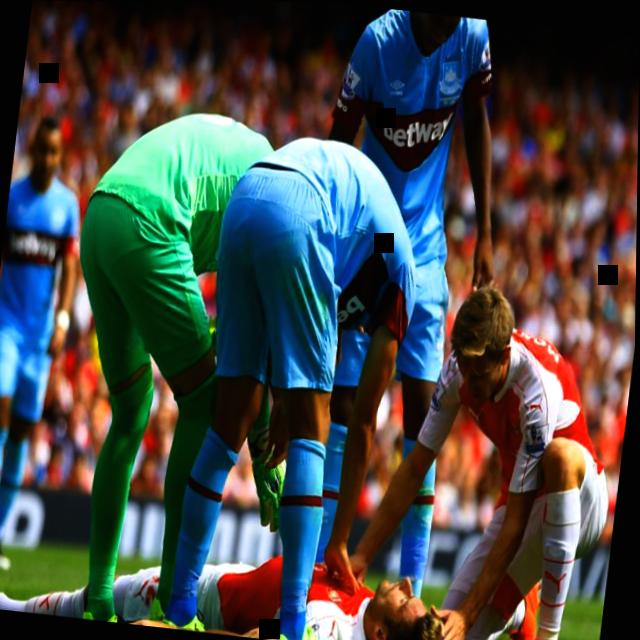Fall-Detected: (0, 477, 489, 640)
